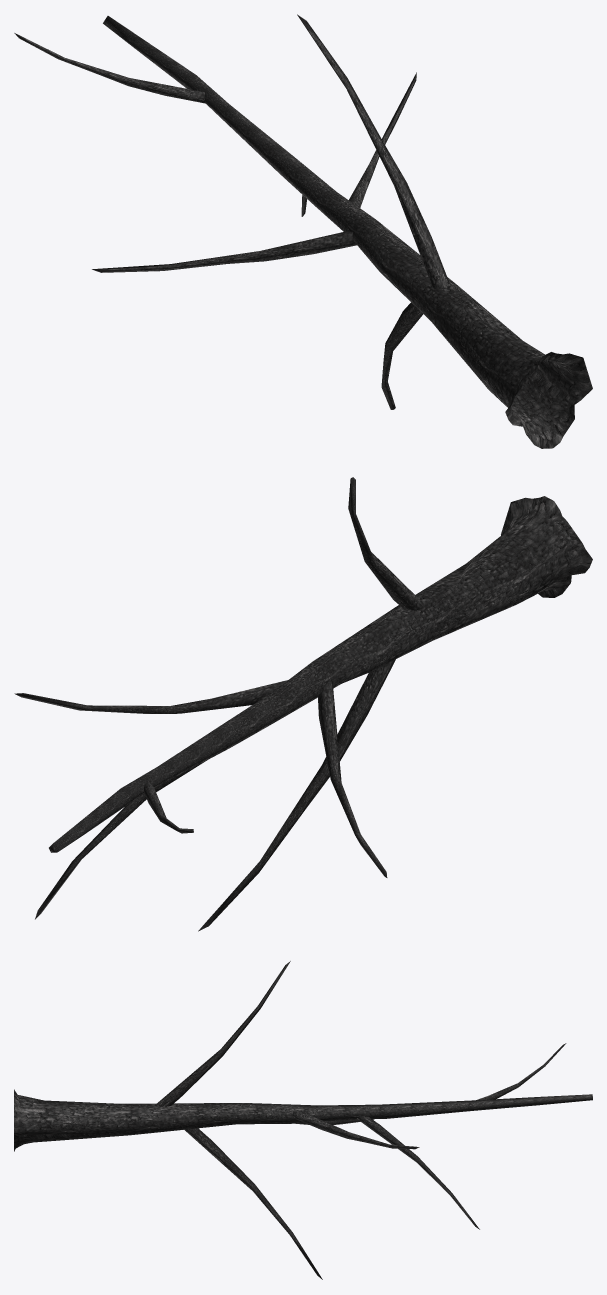
Rendered from tree_8.obj.
3 views of the same model, one above another, from view 1: azimuth 30°, elevation 25°; view 2: azimuth 150°, elevation 25°; view 3: azimuth 270°, elevation 25° (orthographic). The views are drawn at different scales.
Visible parts, largest first — view 1: tree_8; view 2: tree_8; view 3: tree_8.
Boxes of the visible parts, bbox=[...] form: tree_8: bbox=[14, 14, 592, 448]; tree_8: bbox=[14, 477, 592, 931]; tree_8: bbox=[14, 961, 592, 1279].
Size of the model in its own units: 3.41 by 4.25 by 7.91.
